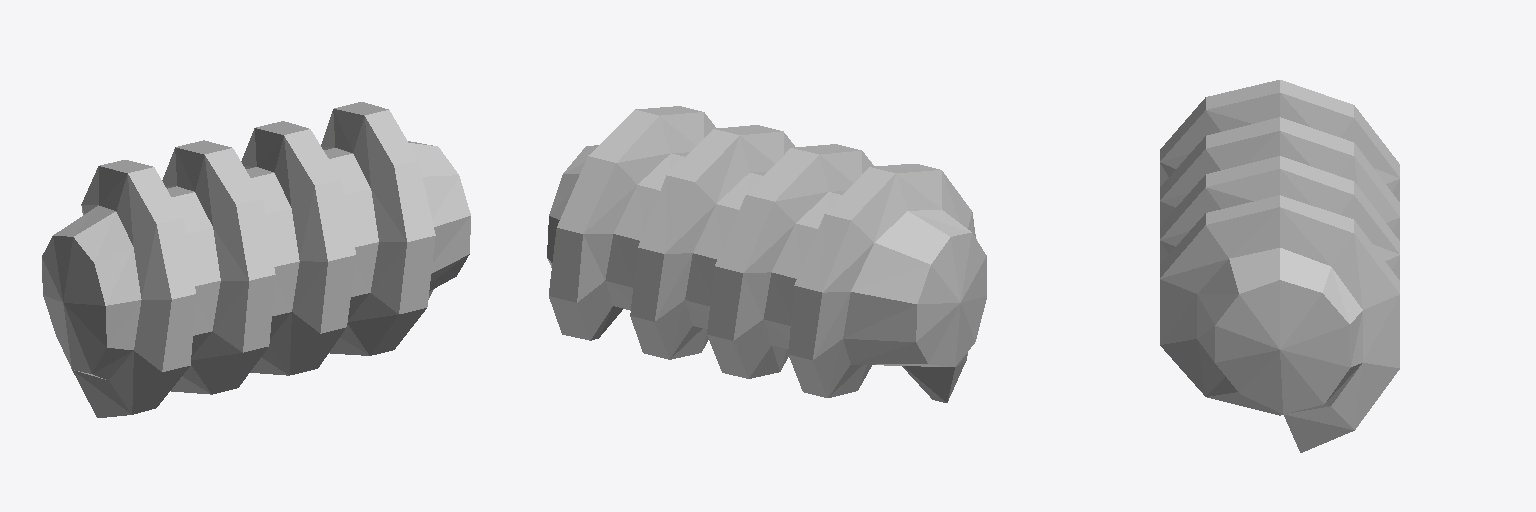
File: spiralGear.obj
3 views of the same model, side by side, from view 1: azimuth 30°, elevation 25°; view 2: azimuth 150°, elevation 25°; view 3: azimuth 270°, elevation 25° (orthographic).
Parts seen in each view (by area): view 1: LP_default.002; view 2: LP_default.002; view 3: LP_default.002.
Part boxes in pixels (left/top/right/bottom): LP_default.002: left=42, top=102, right=470, bottom=417; LP_default.002: left=547, top=106, right=986, bottom=402; LP_default.002: left=1160, top=80, right=1399, bottom=452.
Size of the model in its own units: 0.8568 by 0.4838 by 0.4631.